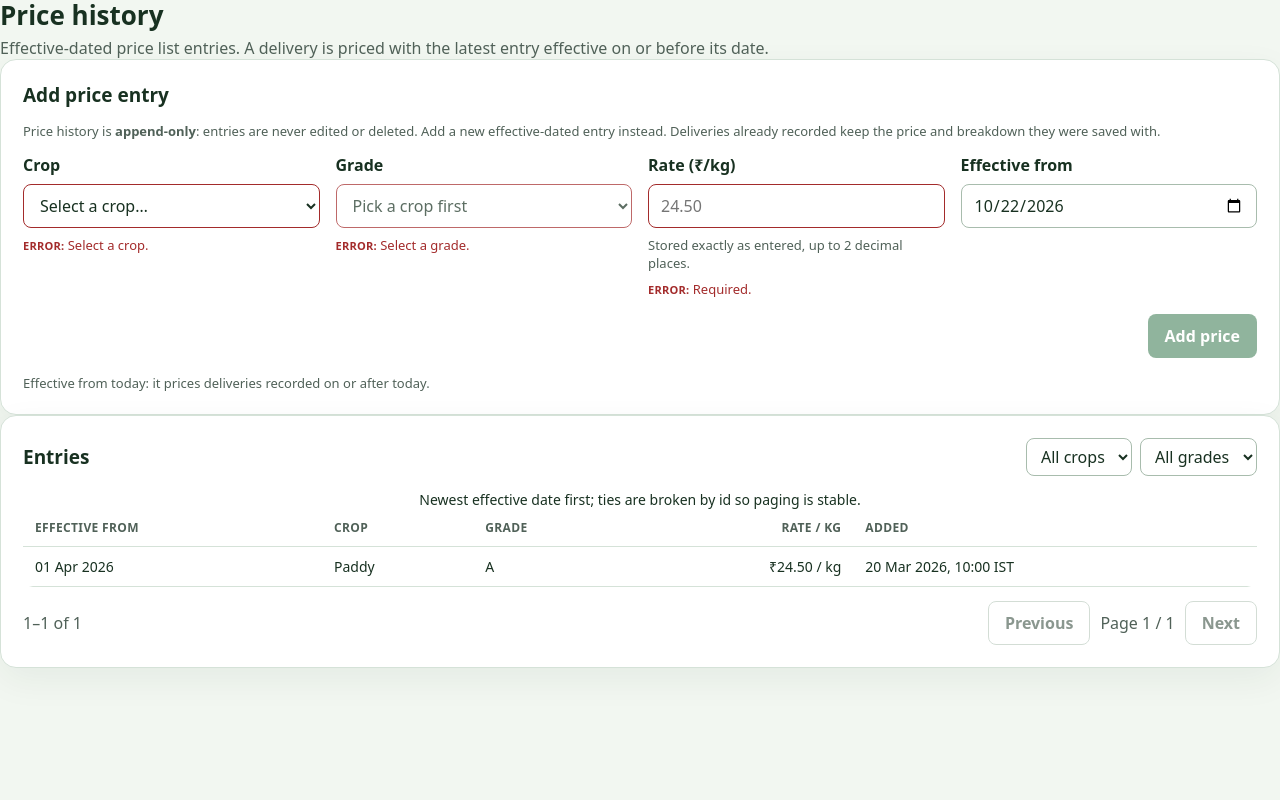
it: PricesScreen › refreshes after a successful addition while preserving the active filter
Expected: the cell titled "24.50 / kg" is shown, [628,547,853,587]
Select "Paddy" in the dropdown named "Filter by crop". click: (1079, 457)
box: [1026,438,1132,476]
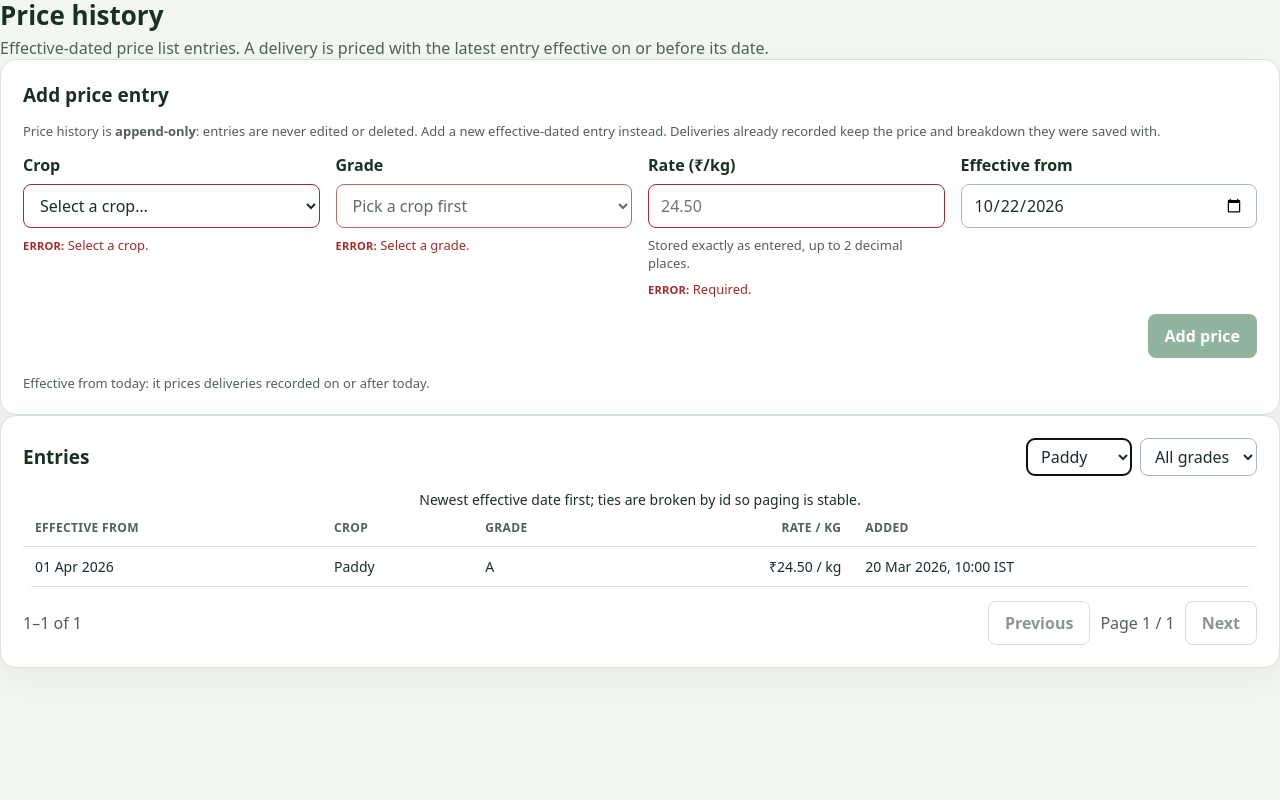
Select "Paddy" in the dropdown labelled "Crop". click: (171, 206)
box: [23,184,320,228]
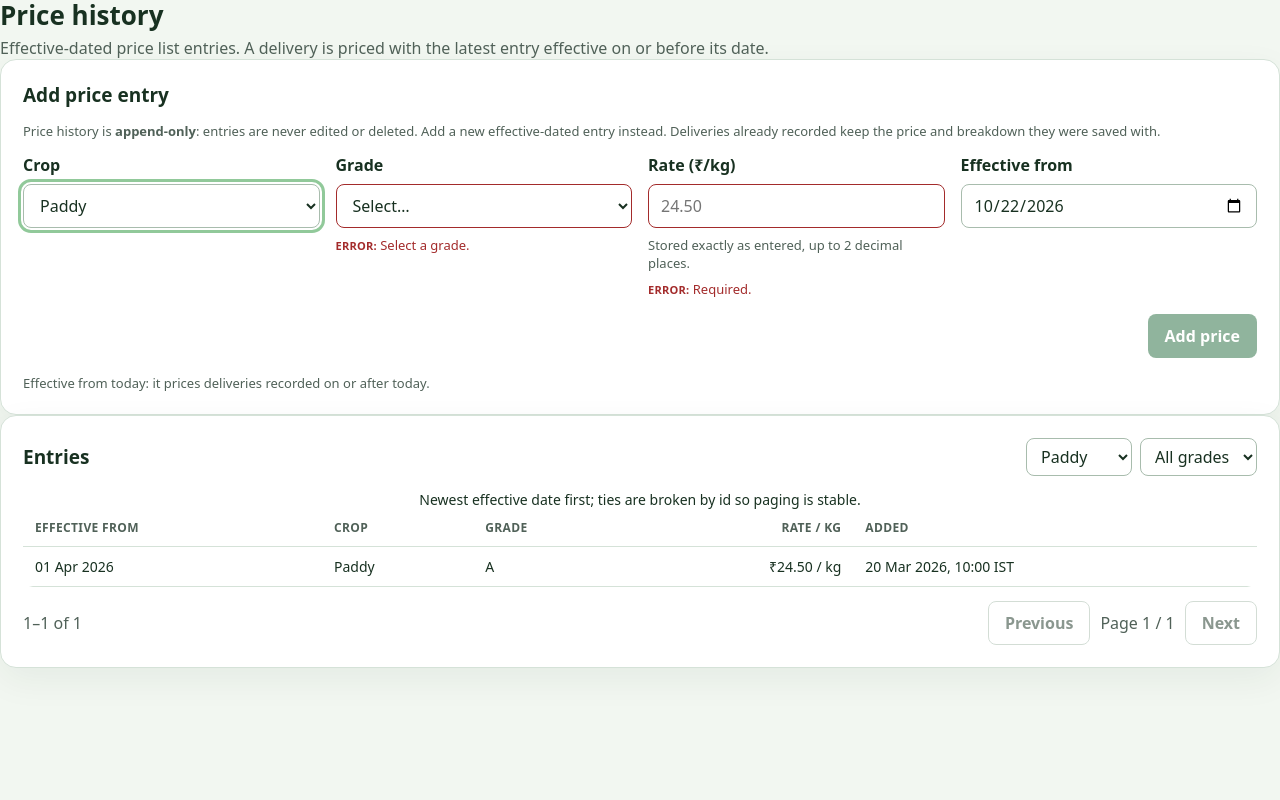
Select "A" in the dropdown labelled "Grade". click: (484, 206)
box: [336,184,632,228]
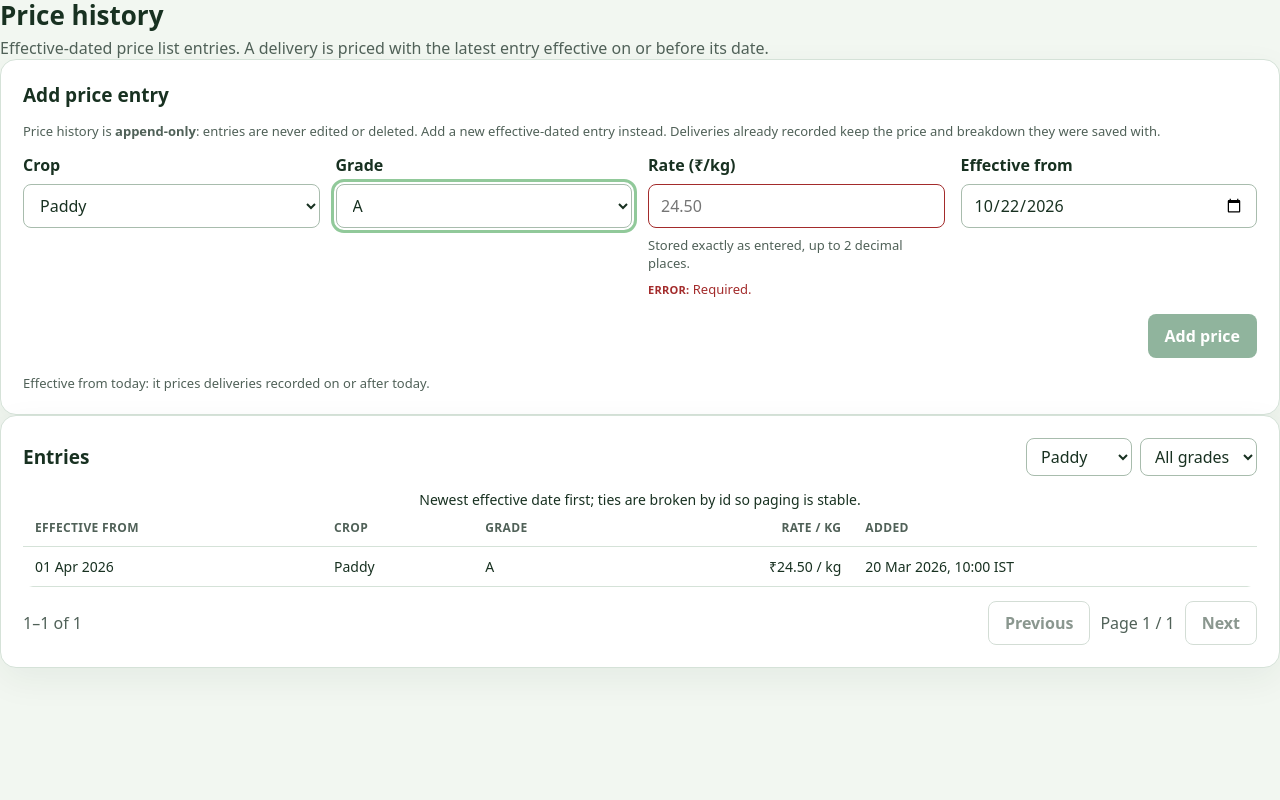
Type "25.00" into the field labelled "Rate (₹/kg)". click: (796, 206)
box: [648,184,944,228]
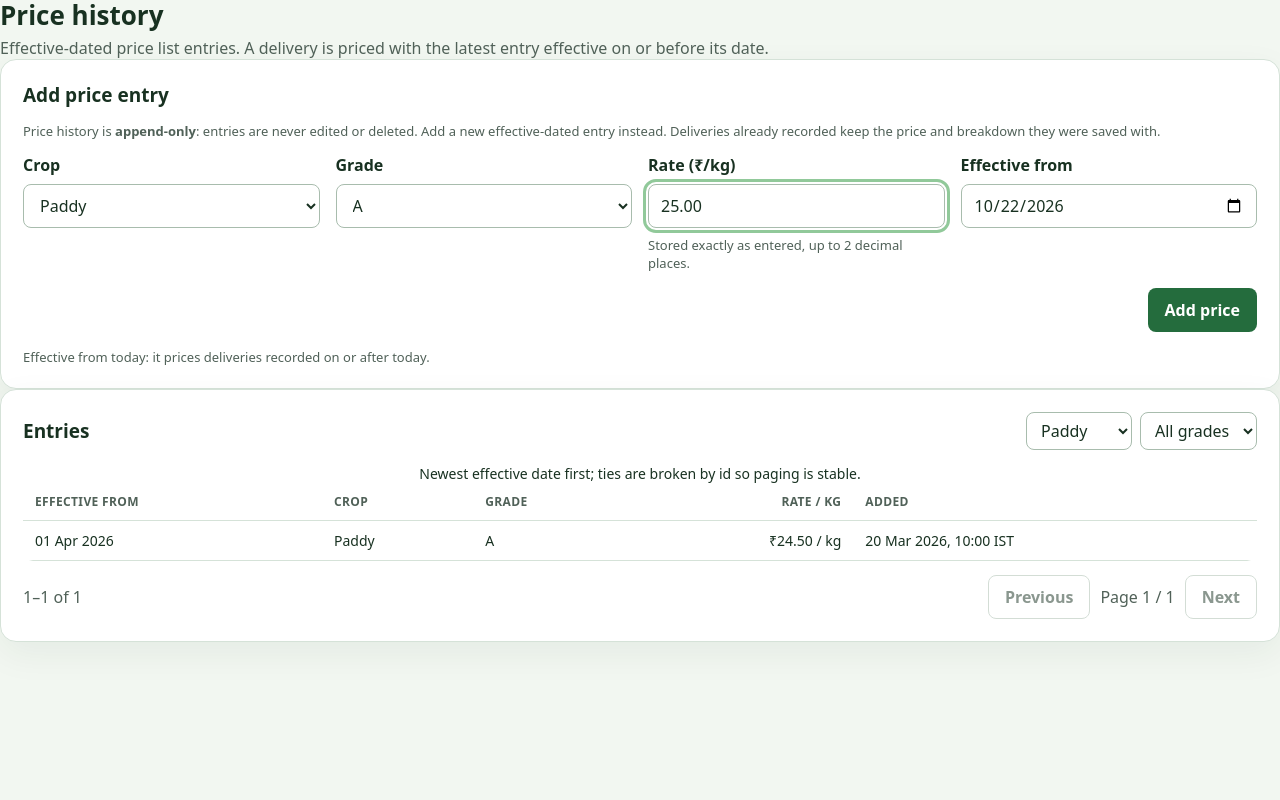
Click the button "Add price". click: (1202, 310)
box: [1148,288,1257,332]
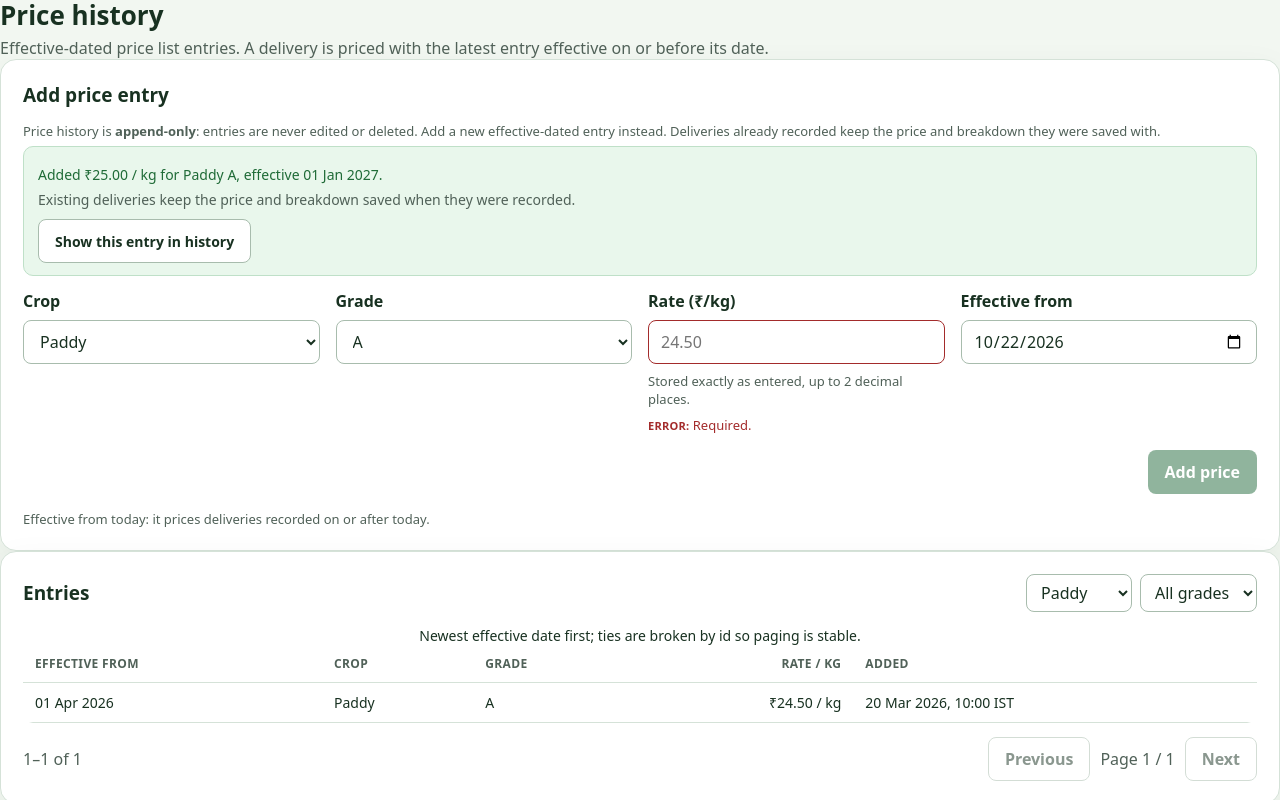
Expected: the button "Show this entry in history" is shown, [55,232,234,251]
